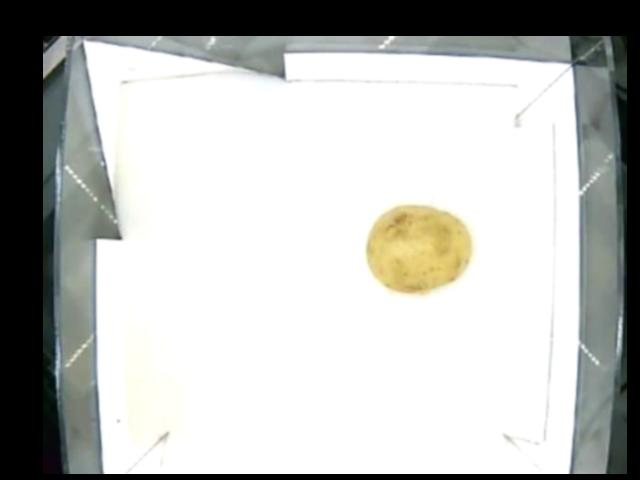Potato: (366, 203, 475, 292)
